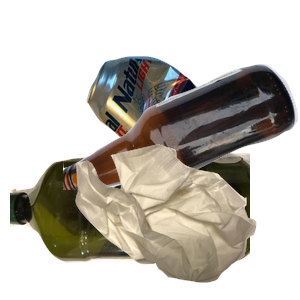glass: (63, 62, 300, 242)
metal: (84, 53, 279, 202)
plastic: (10, 149, 250, 300)
trash: (73, 142, 300, 300)
